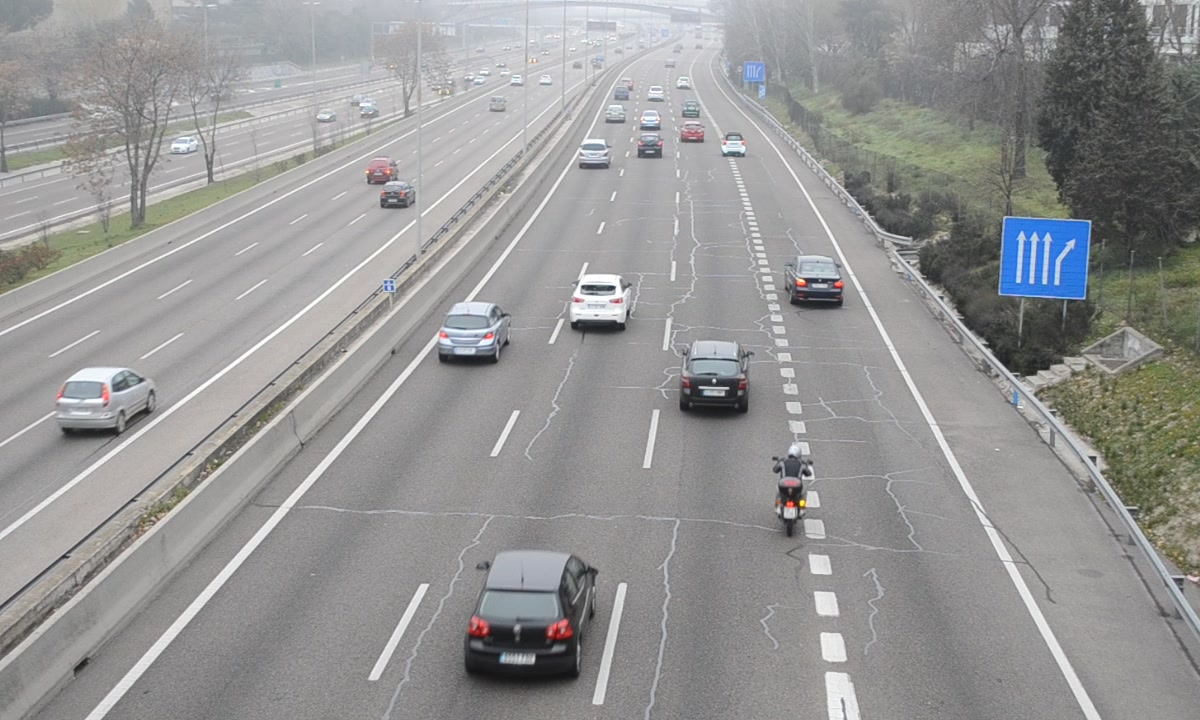car: (466, 548, 598, 674), (679, 339, 748, 412), (438, 300, 509, 361), (569, 273, 631, 327), (787, 256, 845, 306), (577, 137, 612, 170), (637, 132, 663, 159), (720, 130, 745, 157), (680, 120, 706, 144)
motorcycle: (772, 446, 813, 537)
